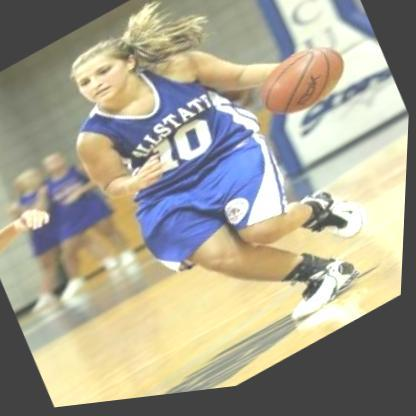basketball: (244, 33, 361, 141)
